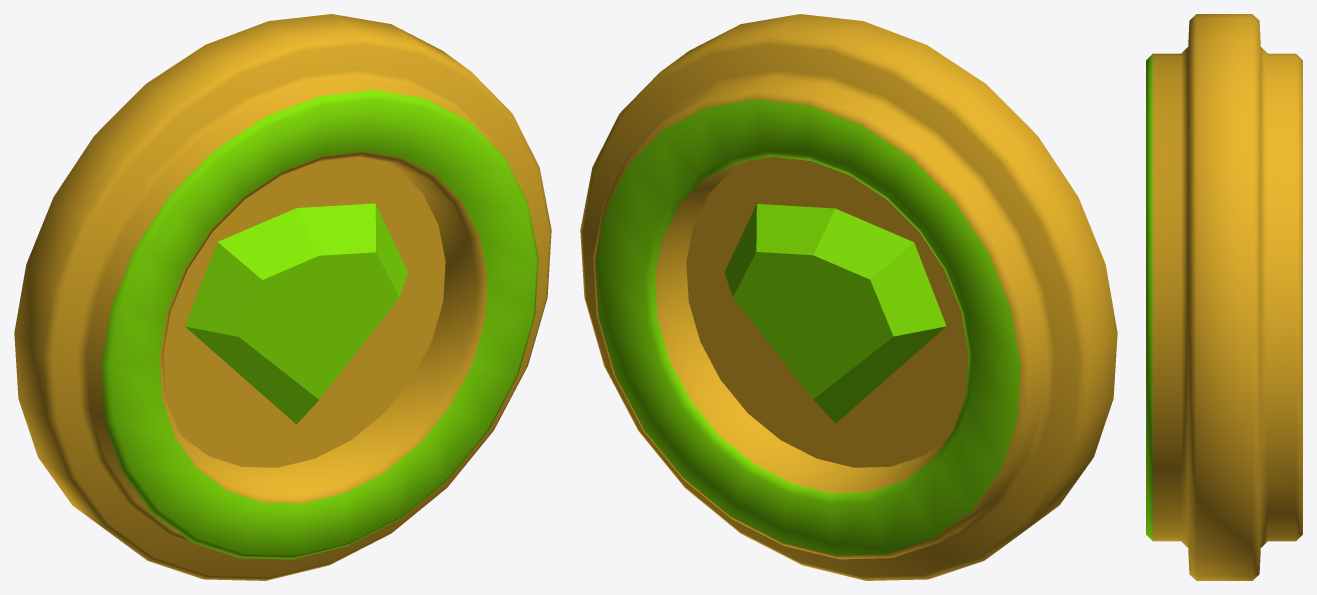
File: coin5.fbx
3 views of the same model, side by side, from view 1: azimuth 30°, elevation 25°; view 2: azimuth 150°, elevation 25°; view 3: azimuth 270°, elevation 25° (orthographic). The views are drawn at different scales.
Visible parts, largest first — view 1: Circle.004; view 2: Circle.004; view 3: Circle.004.
Boxes of the visible parts, <box> form: Circle.004: <box>14,14,551,580</box>; Circle.004: <box>580,14,1117,580</box>; Circle.004: <box>1146,14,1302,580</box>.
Size of the model in its own units: 0.8323 by 0.8307 by 0.2303.
